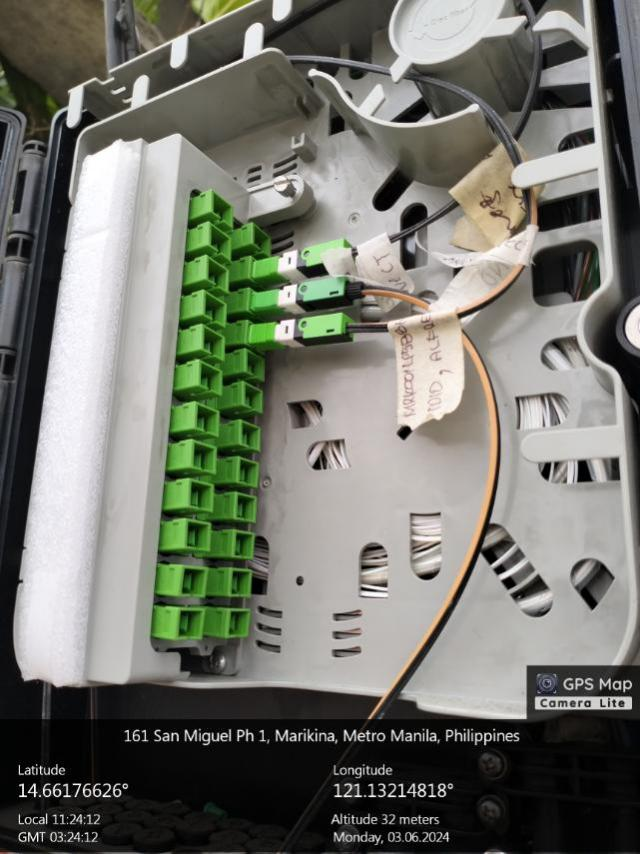no dust cap: (238, 418, 262, 454), (193, 439, 217, 475), (235, 453, 259, 489), (189, 478, 213, 514), (234, 488, 258, 524), (230, 526, 254, 562), (186, 518, 211, 552), (195, 402, 219, 437), (228, 567, 252, 598), (182, 567, 206, 597), (180, 610, 203, 641), (227, 609, 250, 639), (214, 193, 234, 225), (207, 257, 227, 289), (203, 325, 223, 357), (253, 224, 272, 256), (210, 225, 229, 257), (206, 292, 225, 324), (246, 348, 265, 380), (201, 360, 220, 392), (244, 380, 263, 412)
occupied: (250, 235, 356, 279), (246, 311, 369, 344), (250, 278, 366, 309)
